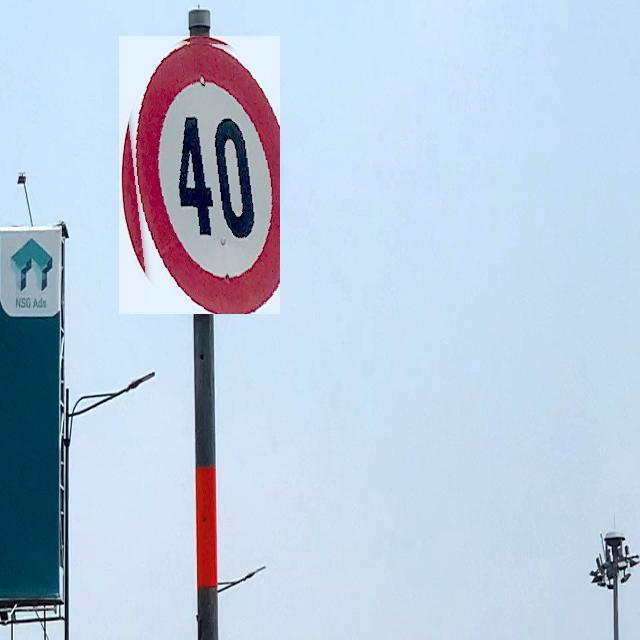P-127: (119, 36, 280, 314)
